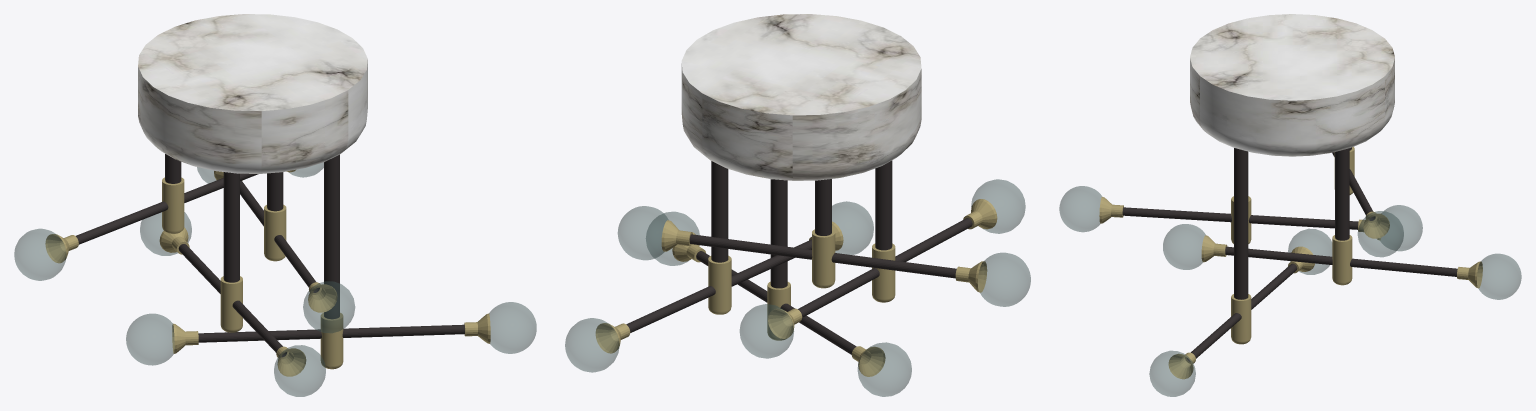
Rendered from LIghtF.fbx.
3 renders of one model, left to right at view 1: azimuth 30°, elevation 25°; view 2: azimuth 150°, elevation 25°; view 3: azimuth 270°, elevation 25°, orthographic. The views are drawn at different scales.
Parts seen in each view (by area): view 1: pCylinder1, pSphere6, pSphere5, pSphere4, pCylinder11, pSphere7, pCylinder8, pCylinder12, pCylinder13; view 2: pCylinder1, pSphere4, pSphere5, pSphere7, pSphere6, pCylinder12, pCylinder8, pCylinder11, pCylinder13; view 3: pCylinder1, pSphere7, pSphere5, pSphere6, pCylinder11, pCylinder12, pSphere4.
Boxes of the visible parts, x1=… form: pCylinder1: x1=138, y1=14, x2=367, y2=173; pSphere6: x1=126, y1=302, x2=536, y2=365; pSphere5: x1=140, y1=212, x2=325, y2=396; pSphere4: x1=14, y1=162, x2=323, y2=280; pCylinder11: x1=320, y1=154, x2=343, y2=369; pSphere7: x1=197, y1=167, x2=355, y2=333; pCylinder8: x1=220, y1=172, x2=242, y2=332; pCylinder12: x1=264, y1=172, x2=286, y2=261; pCylinder13: x1=162, y1=154, x2=184, y2=233; pCylinder1: x1=681, y1=14, x2=921, y2=180; pSphere4: x1=617, y1=206, x2=1030, y2=306; pSphere5: x1=739, y1=179, x2=1025, y2=358; pSphere7: x1=565, y1=201, x2=873, y2=372; pSphere6: x1=646, y1=211, x2=911, y2=396; pCylinder12: x1=708, y1=161, x2=731, y2=314; pCylinder8: x1=872, y1=160, x2=895, y2=302; pCylinder11: x1=767, y1=179, x2=790, y2=340; pCylinder13: x1=812, y1=179, x2=835, y2=288; pCylinder1: x1=1190, y1=14, x2=1394, y2=156; pSphere7: x1=1163, y1=224, x2=1521, y2=299; pSphere5: x1=1059, y1=186, x2=1422, y2=251; pSphere6: x1=1149, y1=228, x2=1332, y2=396; pCylinder11: x1=1231, y1=148, x2=1251, y2=344; pCylinder12: x1=1332, y1=148, x2=1352, y2=285; pSphere4: x1=1332, y1=152, x2=1403, y2=257.
Bounding box in the file's own units: 4.4 × 2.82 × 4.5.
Materials: 4 (1 with a texture image).
